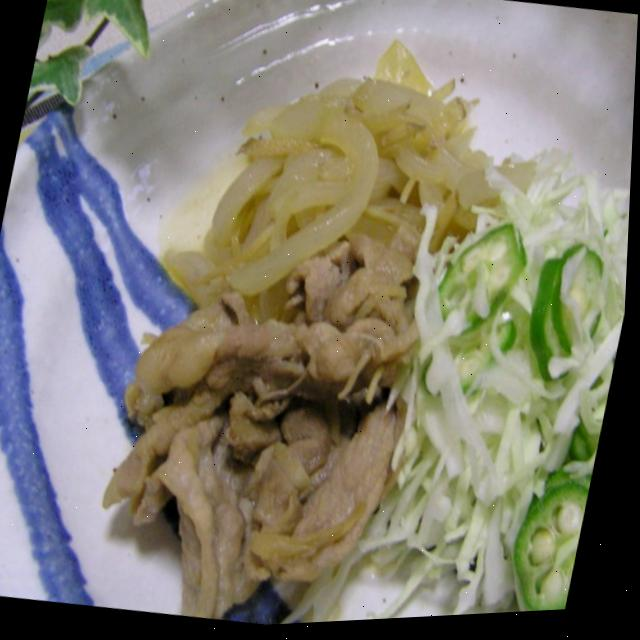猪肉菜式: (63, 33, 638, 637)
